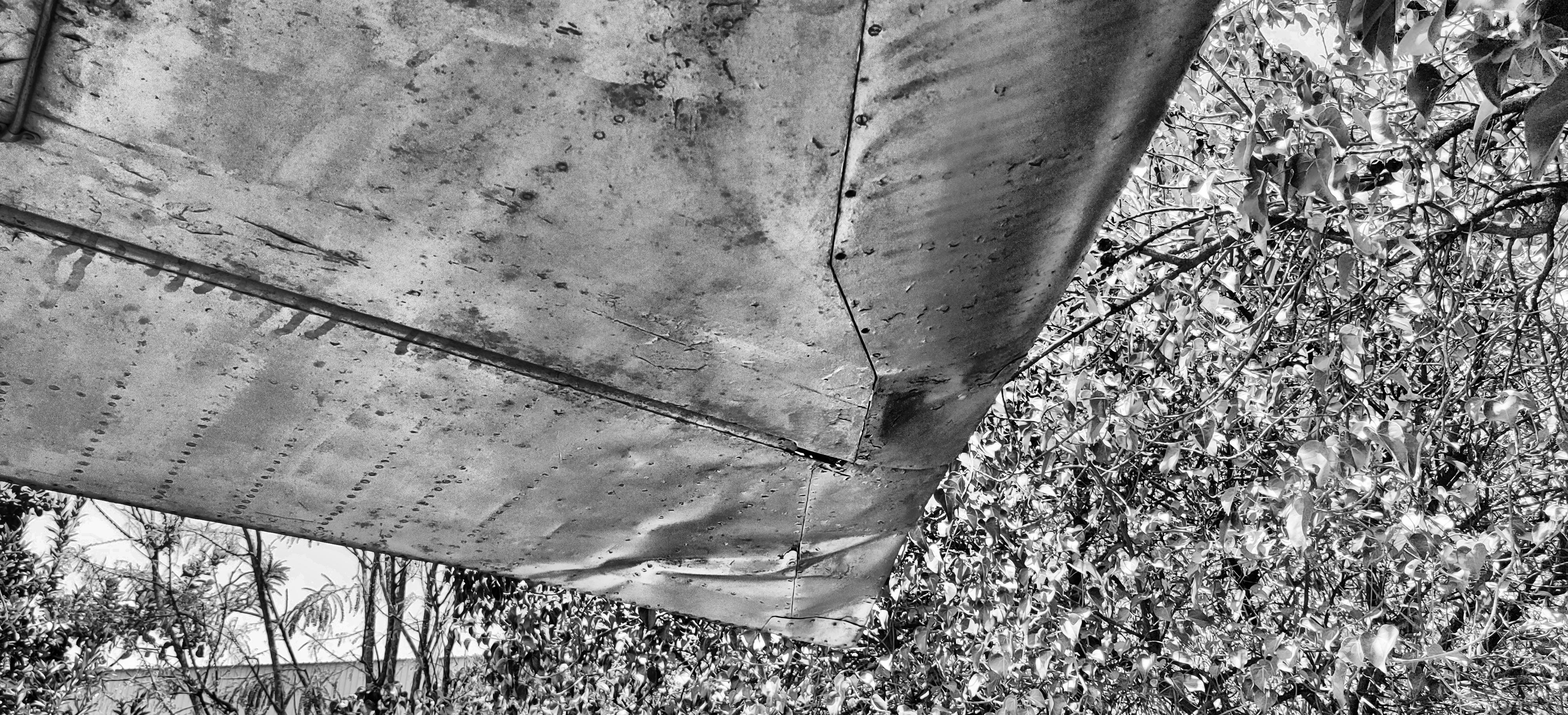dent: (657, 529, 885, 579), (874, 363, 962, 452), (525, 554, 647, 591), (644, 510, 706, 535), (822, 600, 873, 625)
missing-head: (834, 252, 848, 260), (845, 191, 858, 199), (860, 327, 872, 335)
paint-peel-off: (0, 57, 29, 65)
scratch: (239, 218, 355, 267), (979, 353, 1027, 388)
